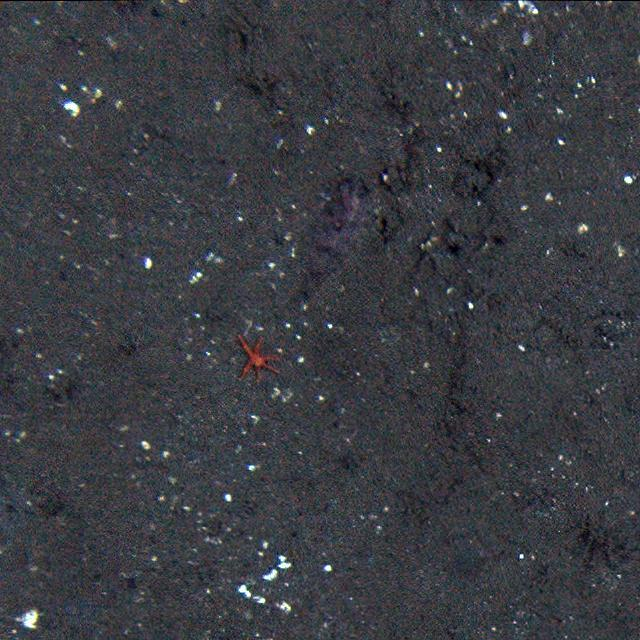flatfish: (292, 174, 372, 306)
